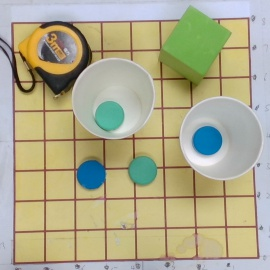blue: (77, 160, 107, 189)
cup_blue: (178, 95, 263, 182)
cup_green: (70, 55, 156, 141)
green: (129, 156, 158, 186)
